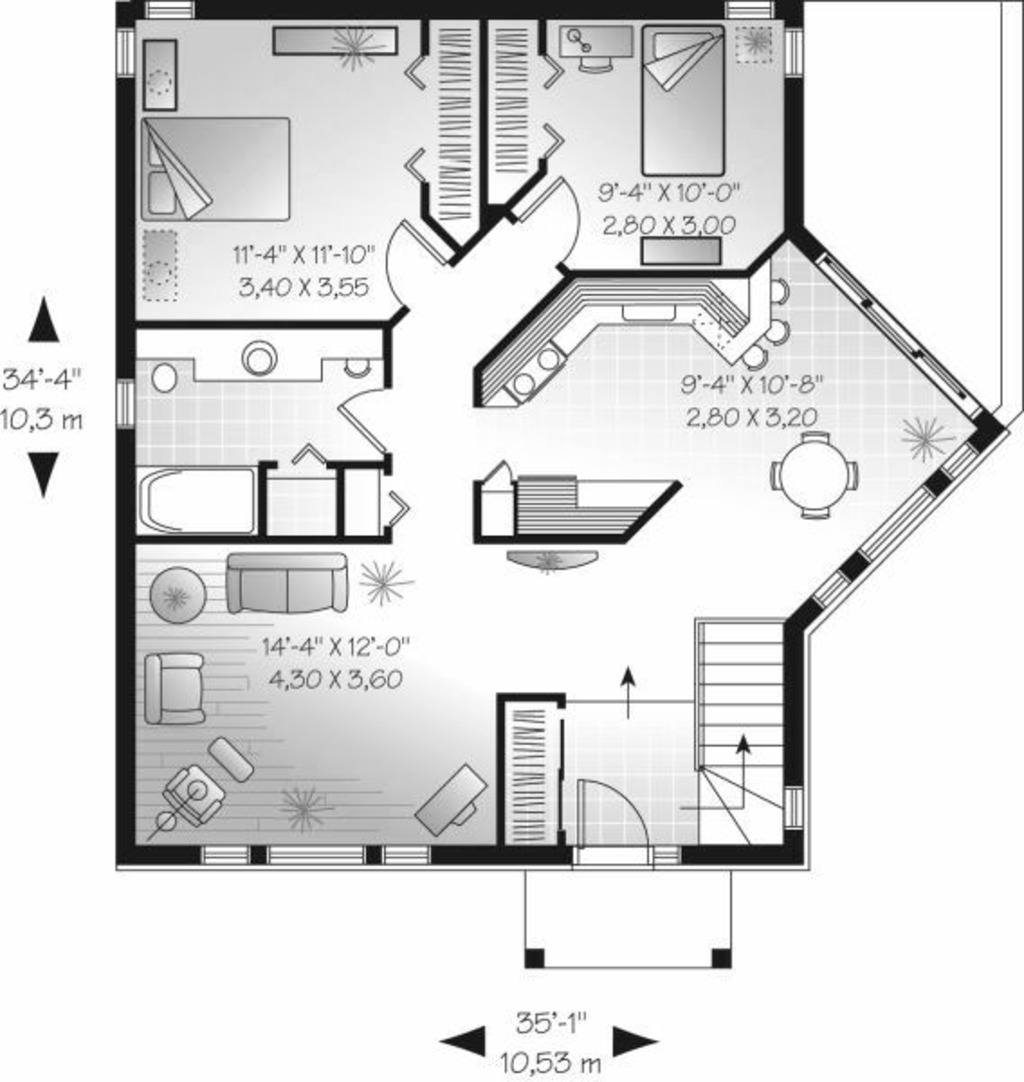bed: (137, 115, 317, 230), (644, 15, 737, 191)
door: (369, 213, 459, 318), (570, 770, 660, 868), (510, 166, 587, 261), (342, 390, 399, 458), (474, 461, 524, 501)
kitchen_bar: (694, 276, 814, 386)
large_sofa: (215, 546, 359, 628)
round_table: (764, 421, 864, 536)
small_sink: (202, 321, 305, 386)
small_sofa: (142, 643, 212, 731)
stairs: (689, 600, 785, 841)
tub: (130, 460, 272, 535)
window: (197, 845, 447, 878), (767, 780, 810, 838), (112, 28, 144, 85), (114, 378, 142, 430)
